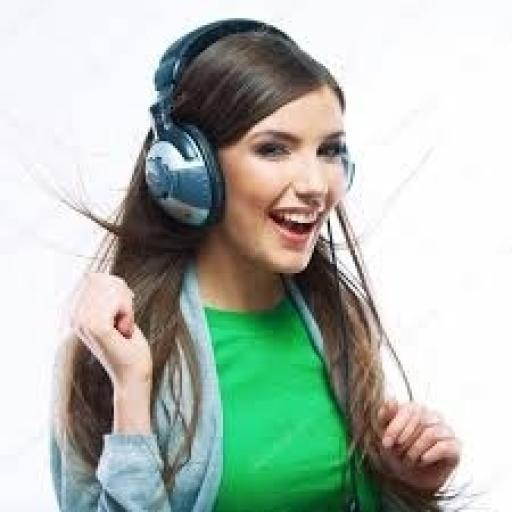listening_to_music: (45, 16, 469, 510)
